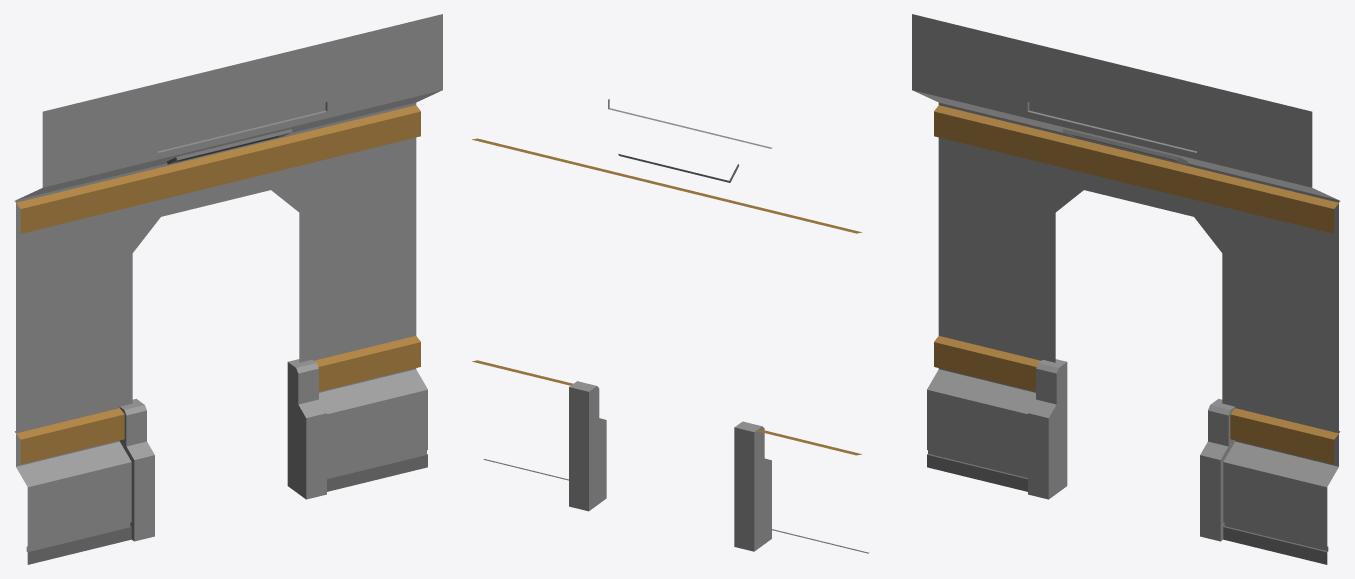
The model's file is quaternius-modular-sci-fi-door-single-wall-side-b.glb.
3 renders of one model, left to right at view 1: azimuth 30°, elevation 25°; view 2: azimuth 150°, elevation 25°; view 3: azimuth 330°, elevation 25°, orthographic. The views are drawn at different scales.
Visible parts, largest first — view 1: DoorSingle_Wall_SideB; view 2: DoorSingle_Wall_SideB; view 3: DoorSingle_Wall_SideB.
Boxes of the visible parts, x1,y1,x2,y2 form: DoorSingle_Wall_SideB: (14, 14, 442, 564); DoorSingle_Wall_SideB: (472, 99, 869, 553); DoorSingle_Wall_SideB: (912, 14, 1340, 564).
Size of the model in its own units: 4 by 4.43 by 0.5306.
